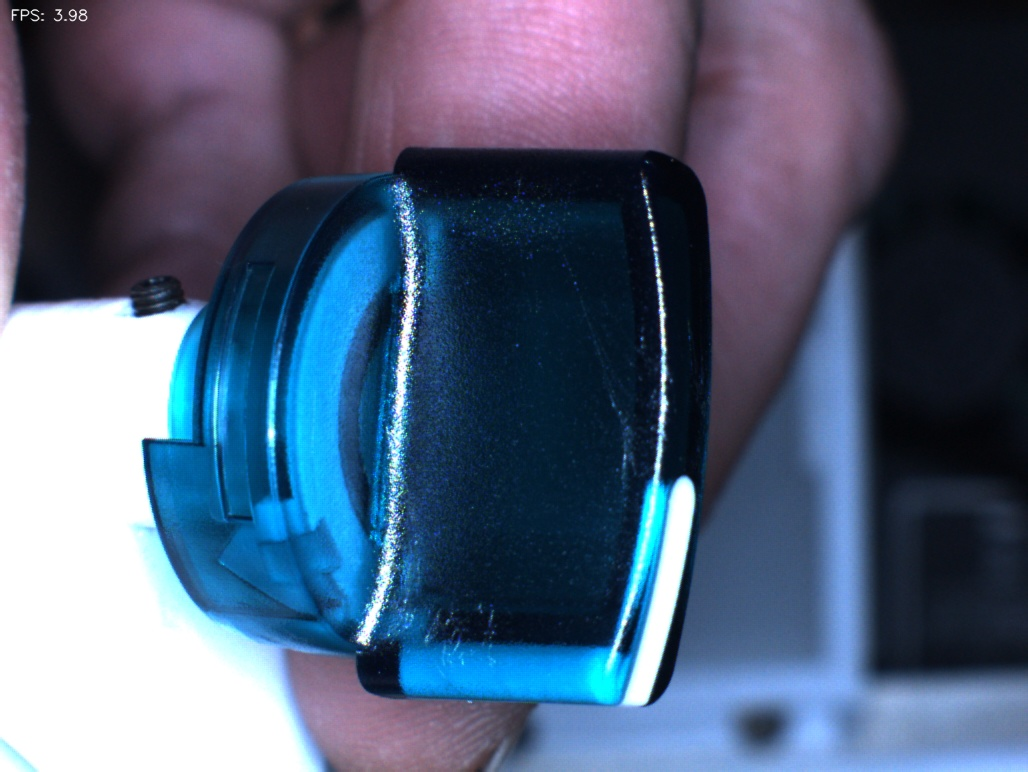Givrage: (417, 580, 510, 672)
